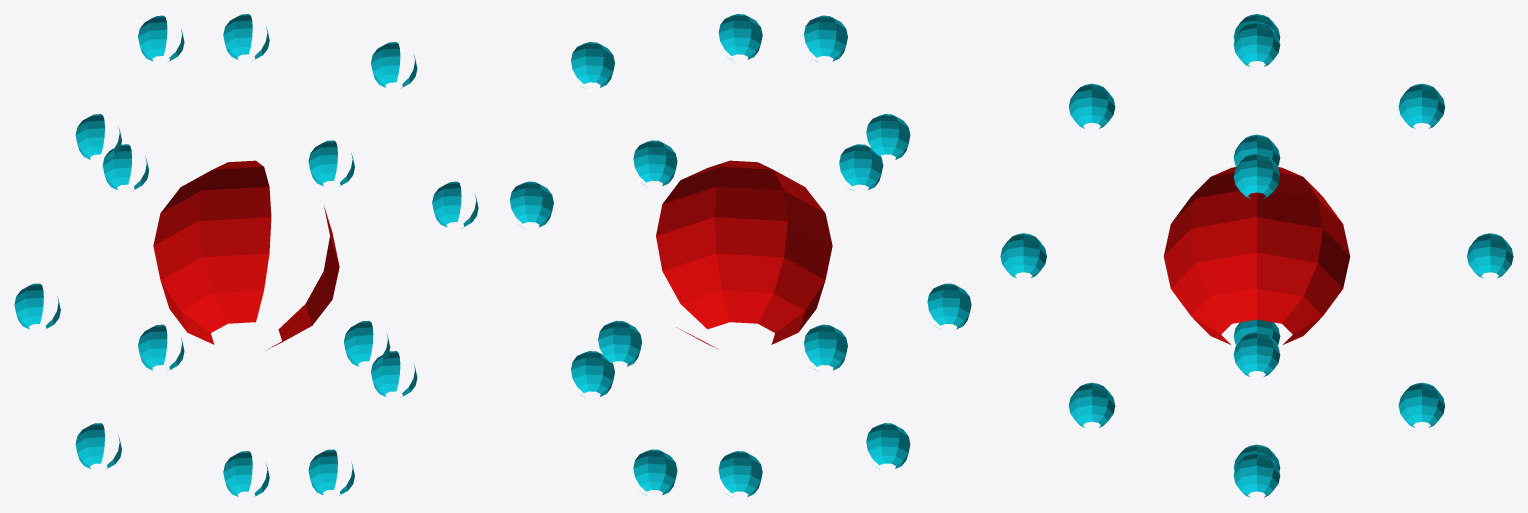
File: atom.glb
3 views of the same model, side by side, from view 1: azimuth 30°, elevation 25°; view 2: azimuth 150°, elevation 25°; view 3: azimuth 270°, elevation 25° (orthographic). The views are drawn at different scales.
Bounding box in the file's own units: 1.1 × 1.1 × 1.1.
